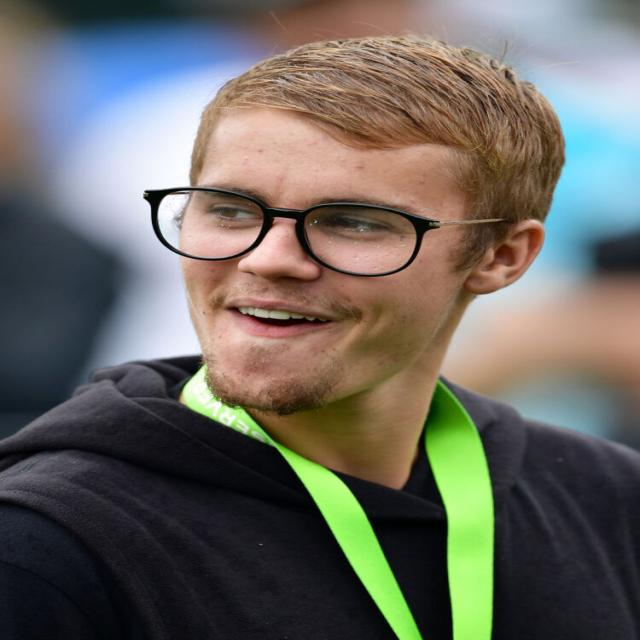live: (174, 115, 463, 413)
